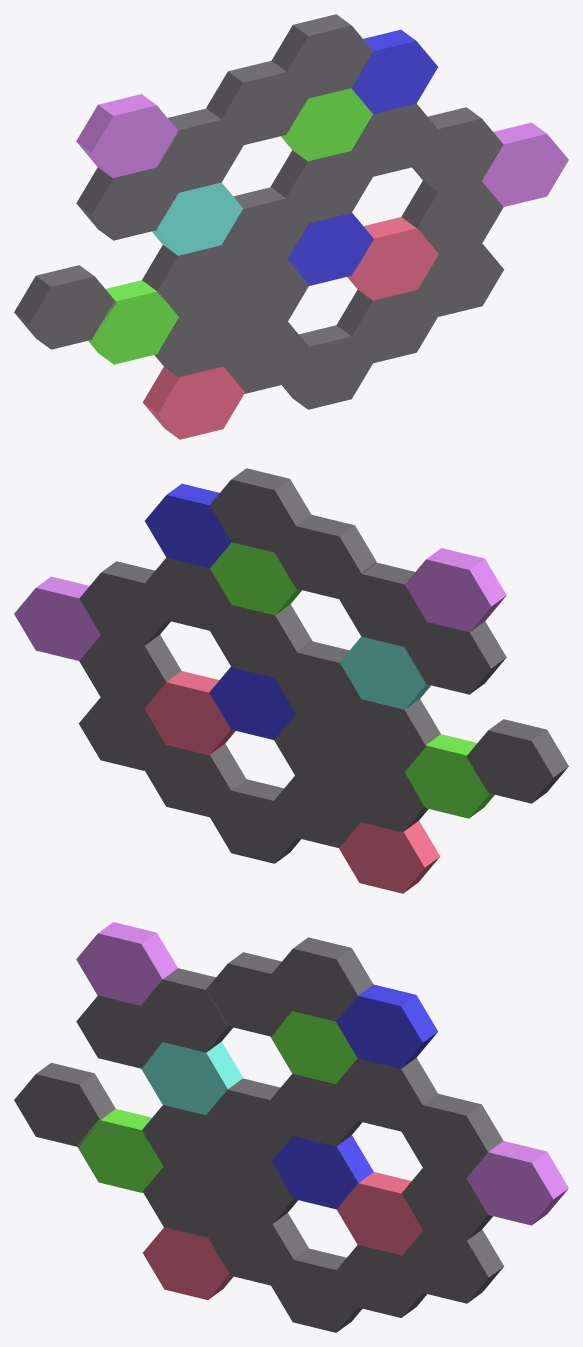
The model's file is decor2.fbx.
The picture shows the model from 3 angles, top to bottom: view 1: azimuth 30°, elevation 25°; view 2: azimuth 150°, elevation 25°; view 3: azimuth 330°, elevation 25°; orthographic projection.
Visible parts, largest first — view 1: Cylinder.025, Cylinder.024, Cylinder.011, Cylinder.021, Cylinder.015, Cylinder.022, Cylinder.007, Cylinder.002, Cylinder.006, Cylinder.001, Cylinder.012, Cylinder.023 (+14 smaller); view 2: Cylinder.024, Cylinder.025, Cylinder.011, Cylinder.021, Cylinder.022, Cylinder.015, Cylinder.007, Cylinder.002, Cylinder.006, Cylinder.016, Cylinder.001, Cylinder.004 (+14 smaller); view 3: Cylinder, Cylinder.020, Cylinder.001, Cylinder.021, Cylinder.024, Cylinder.025, Cylinder.005, Cylinder.003, Cylinder.017, Cylinder.009, Cylinder.018, Cylinder.012 (+14 smaller).
Boxes of the visible parts, x1,y1,x2,y2 form: Cylinder.025: (76, 94, 178, 177); Cylinder.024: (14, 265, 116, 349); Cylinder.011: (206, 60, 308, 145); Cylinder.021: (271, 14, 373, 98); Cylinder.015: (142, 366, 244, 439); Cylinder.022: (76, 167, 178, 240); Cylinder.007: (270, 150, 372, 223); Cylinder.002: (401, 181, 503, 253); Cylinder.006: (336, 289, 438, 363); Cylinder.001: (412, 107, 503, 191); Cylinder.012: (282, 325, 373, 409); Cylinder.023: (88, 280, 178, 364); Cylinder.024: (466, 719, 568, 803); Cylinder.025: (404, 548, 506, 632); Cylinder.011: (274, 514, 376, 599); Cylinder.021: (209, 468, 311, 552); Cylinder.022: (404, 621, 506, 694); Cylinder.015: (339, 821, 440, 893); Cylinder.007: (210, 604, 312, 677); Cylinder.002: (79, 635, 181, 708); Cylinder.006: (144, 743, 246, 817); Cylinder.016: (340, 699, 440, 771); Cylinder.001: (79, 561, 170, 645); Cylinder.004: (144, 671, 235, 755); Cylinder: (466, 1141, 568, 1225); Cylinder.020: (336, 984, 437, 1068); Cylinder.001: (401, 1094, 503, 1178); Cylinder.021: (271, 937, 373, 1021); Cylinder.024: (14, 1062, 115, 1146); Cylinder.025: (76, 922, 177, 1005); Cylinder.005: (402, 1229, 504, 1303); Cylinder.003: (336, 1058, 437, 1131); Cylinder.017: (141, 1041, 242, 1115); Cylinder.009: (272, 1135, 373, 1209); Cylinder.018: (141, 968, 232, 1052); Cylinder.012: (271, 1248, 362, 1332).
Size of the model in its own units: 1559 by 1032 by 77.42.
